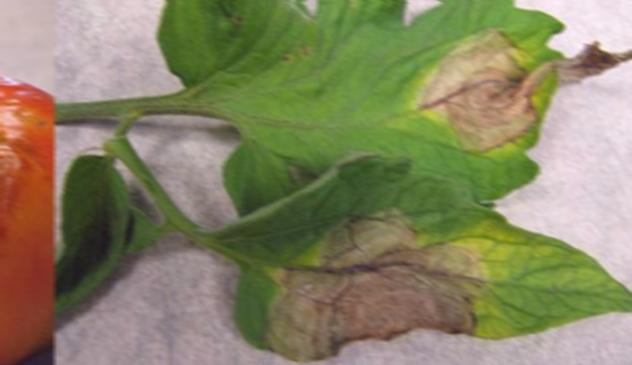Tomato leaf late blight: (119, 0, 632, 202), (184, 150, 632, 365)
